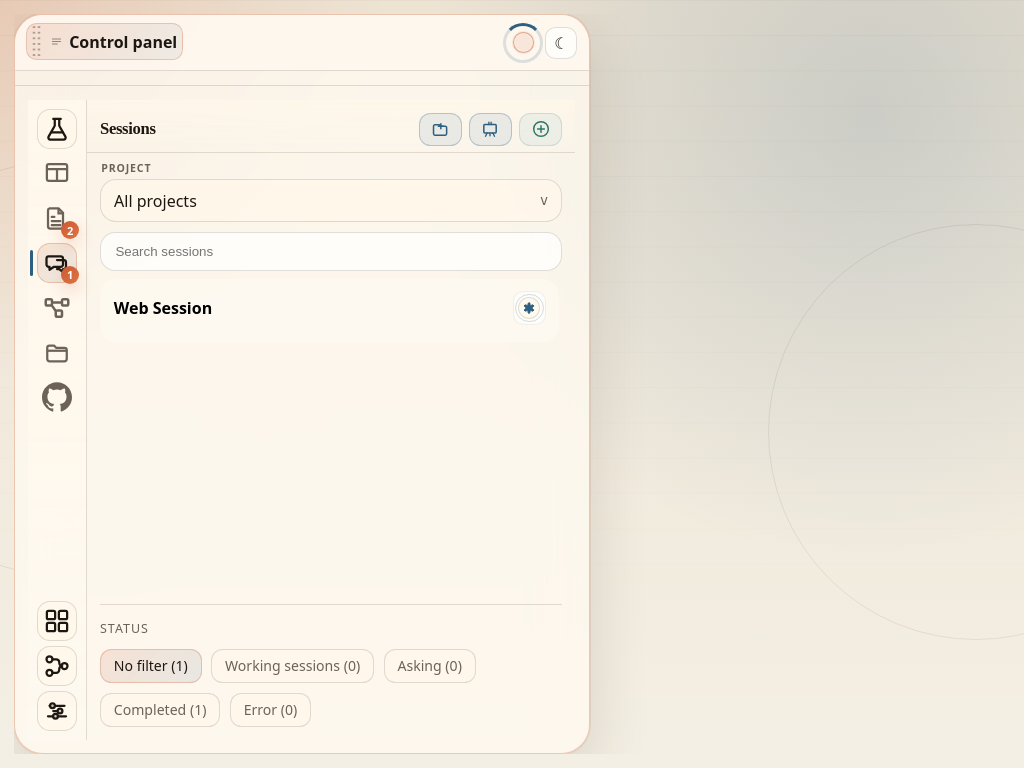
it: App control panel - openers and canvas › loads project files in the control panel without requiring a session
Click the dropdown labelled "project". click: point(155, 201)
box: [100,179,562,222]
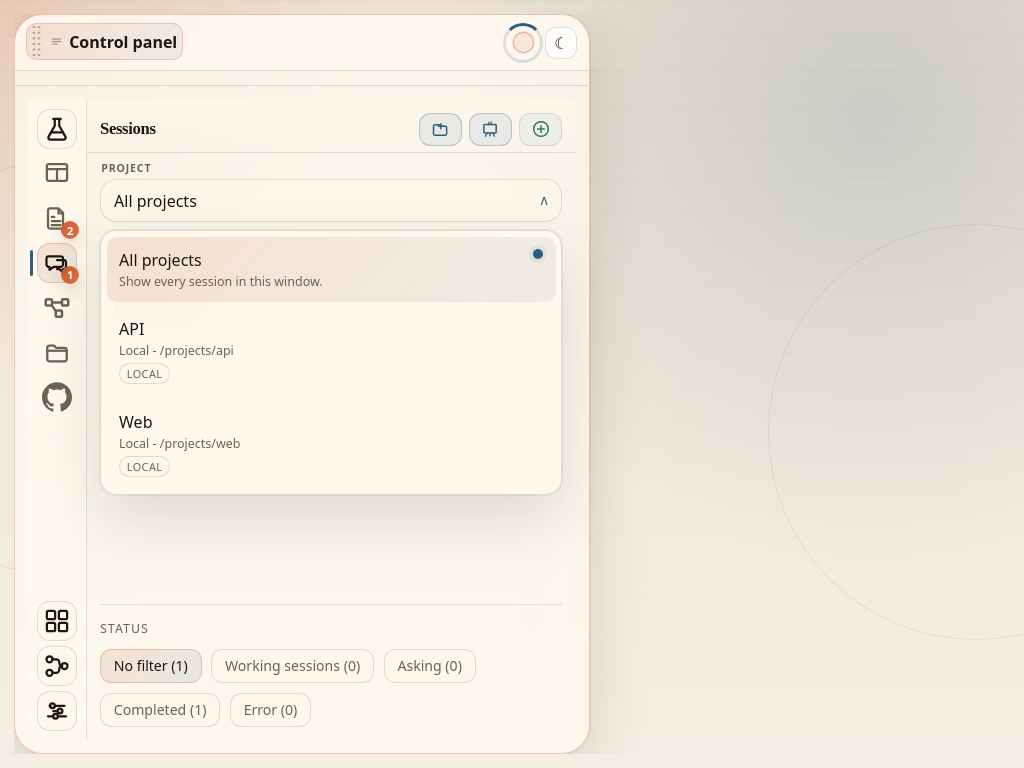
Click the option "API Local - /projects/api Local". click: point(176, 350)
box: [107,306,556,395]
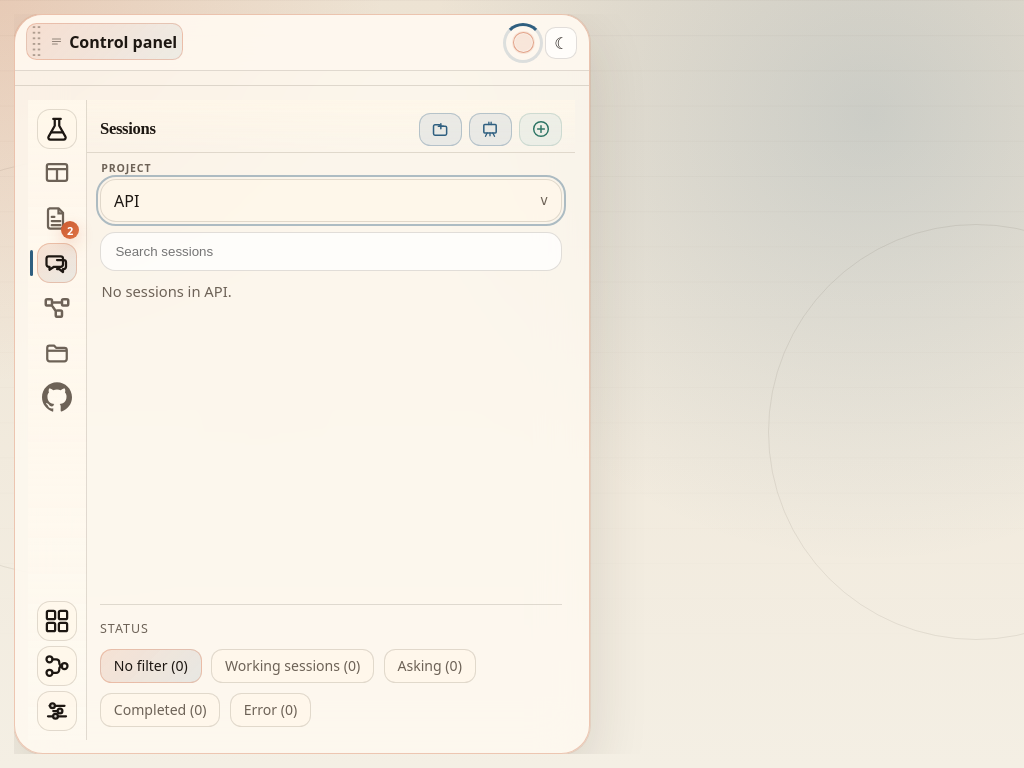
Click the button named "Files". click: point(57, 352)
box: [37,332,77,372]
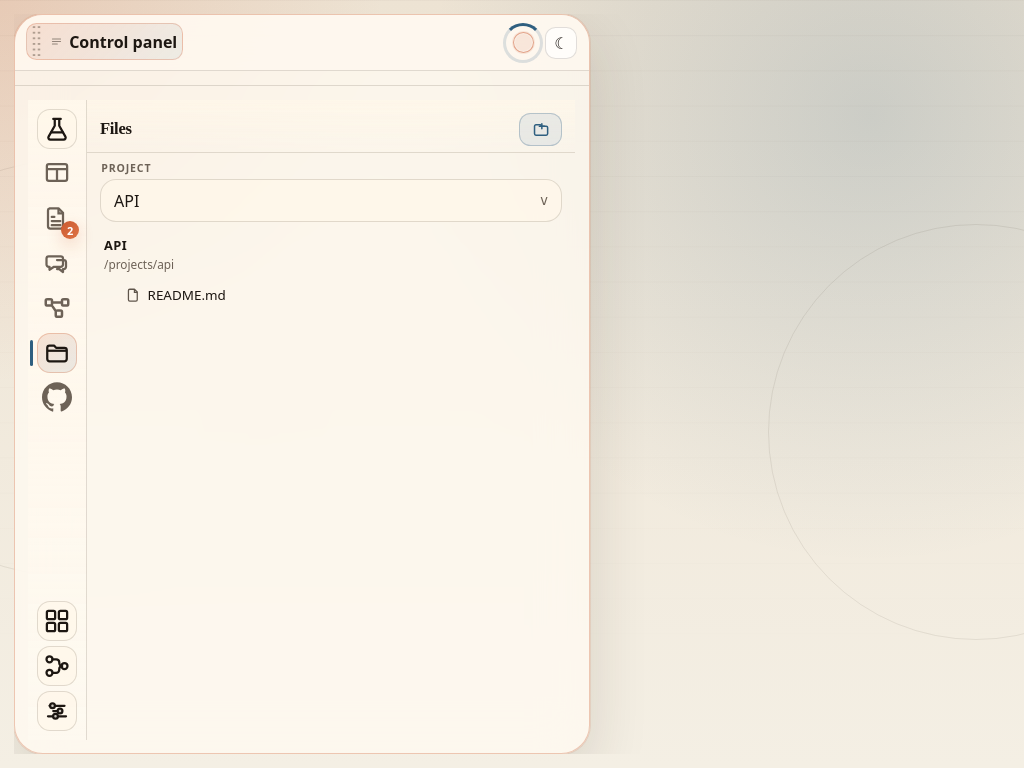
Now the button "README.md" is shown, box [100,281,562,308]
